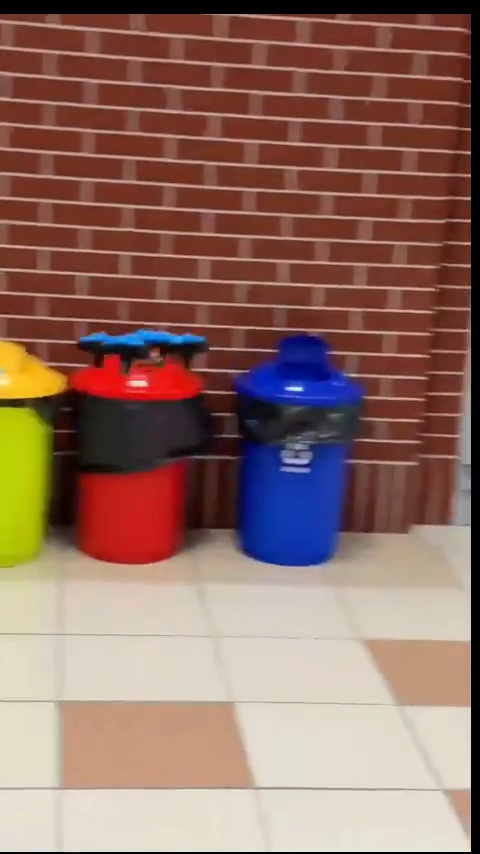drone: (75, 325, 214, 376)
